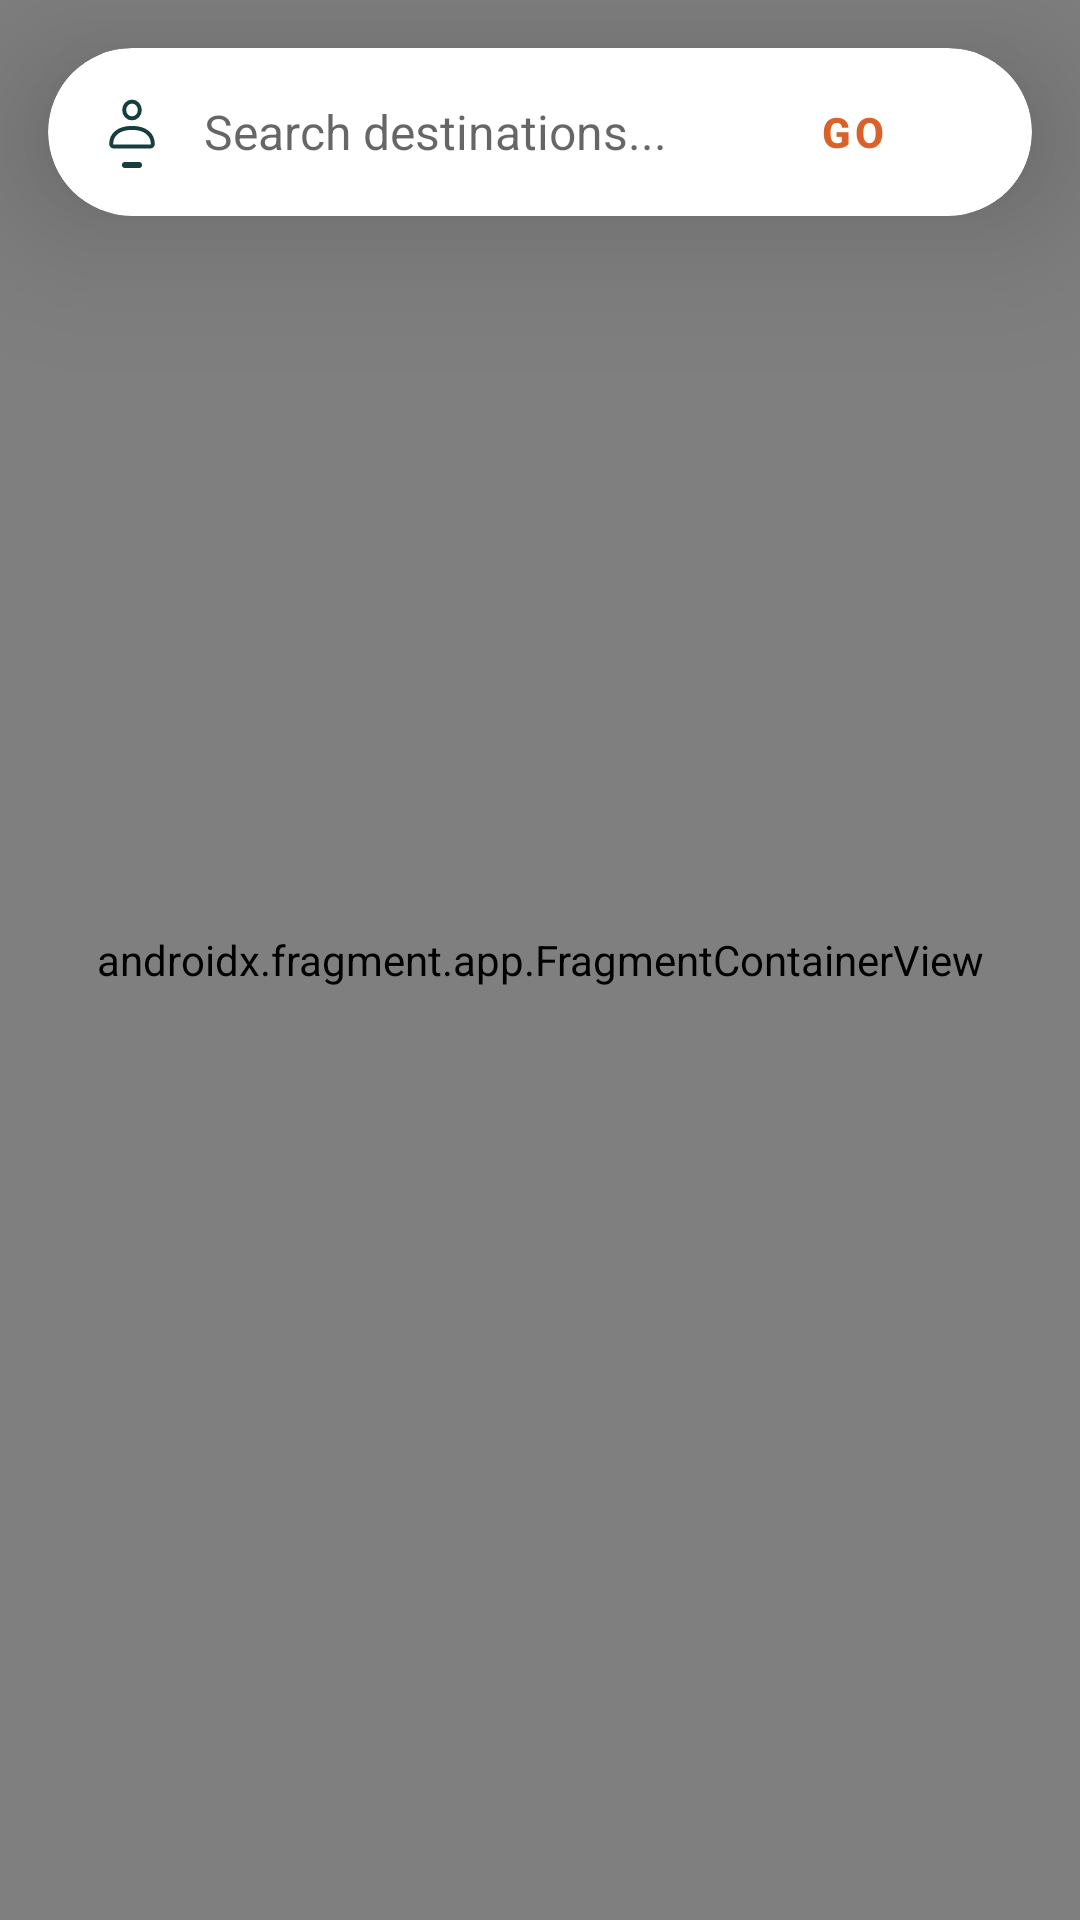

Icons on this 1080w x 1920h Android screen, each with its box as (left=x1, top=y1, right=x2, bottom=y2):
profile: (left=109, top=99, right=155, bottom=168)
